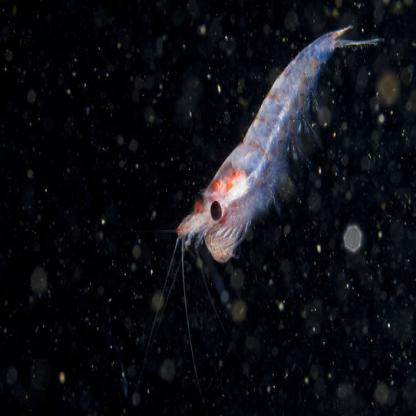shrimp: (176, 23, 377, 274)
